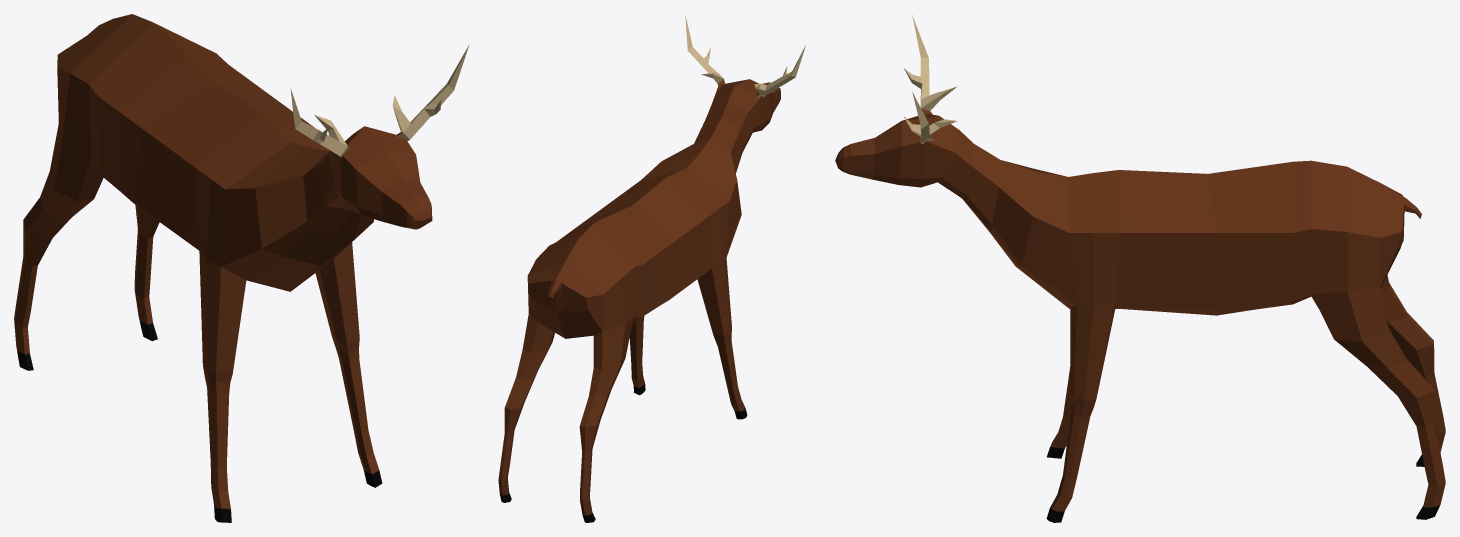
The model's file is Deer.obj.
3 renders of one model, left to right at view 1: azimuth 30°, elevation 25°; view 2: azimuth 150°, elevation 25°; view 3: azimuth 270°, elevation 25°, orthographic. The views are drawn at different scales.
Parts seen in each view (by area): view 1: Deer_Cylinder; view 2: Deer_Cylinder; view 3: Deer_Cylinder.
Part boxes in pixels (x1,y1,x2,y2): Deer_Cylinder: [14, 14, 469, 522]; Deer_Cylinder: [498, 15, 805, 522]; Deer_Cylinder: [835, 14, 1445, 522].
Bounding box in the file's own units: 0.5602 × 1.49 × 1.88.
